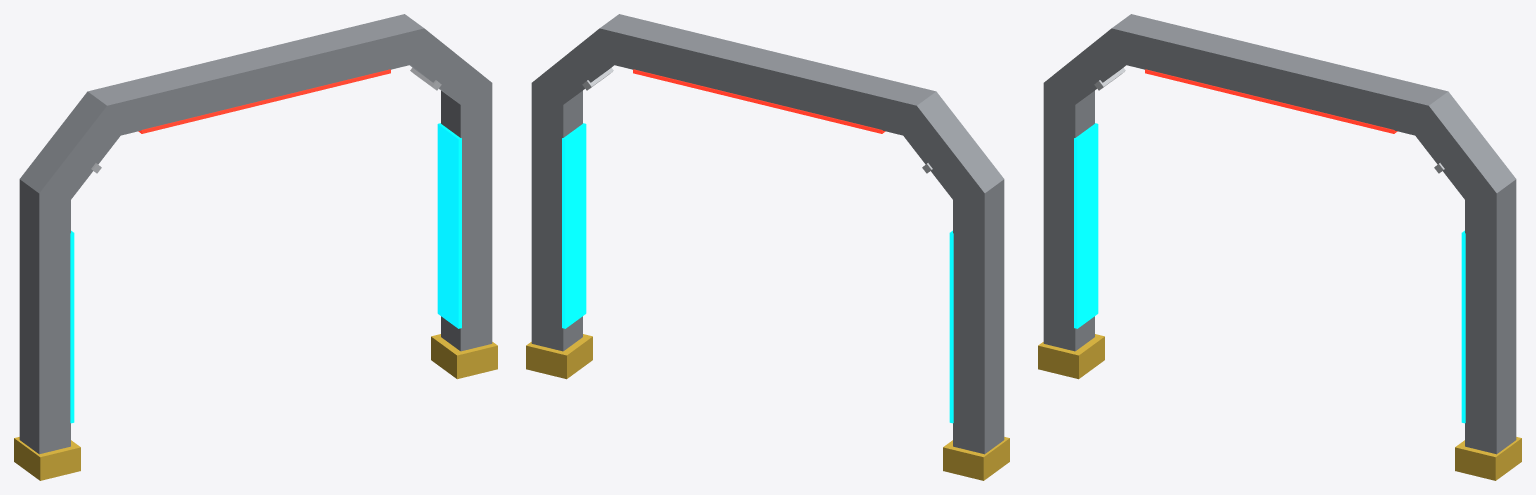
The model's file is FV_Corridor_Frame.fbx.
3 renders of one model, left to right at view 1: azimuth 30°, elevation 25°; view 2: azimuth 150°, elevation 25°; view 3: azimuth 330°, elevation 25°, orthographic.
Visible parts, largest first — view 1: Corridor_Frame; view 2: Corridor_Frame; view 3: Corridor_Frame.
Part boxes in pixels (bbox=[...]): Corridor_Frame: bbox=[14, 14, 497, 480]; Corridor_Frame: bbox=[526, 14, 1009, 480]; Corridor_Frame: bbox=[1038, 14, 1521, 480].
Size of the model in its own units: 4.04 by 3 by 0.4.
